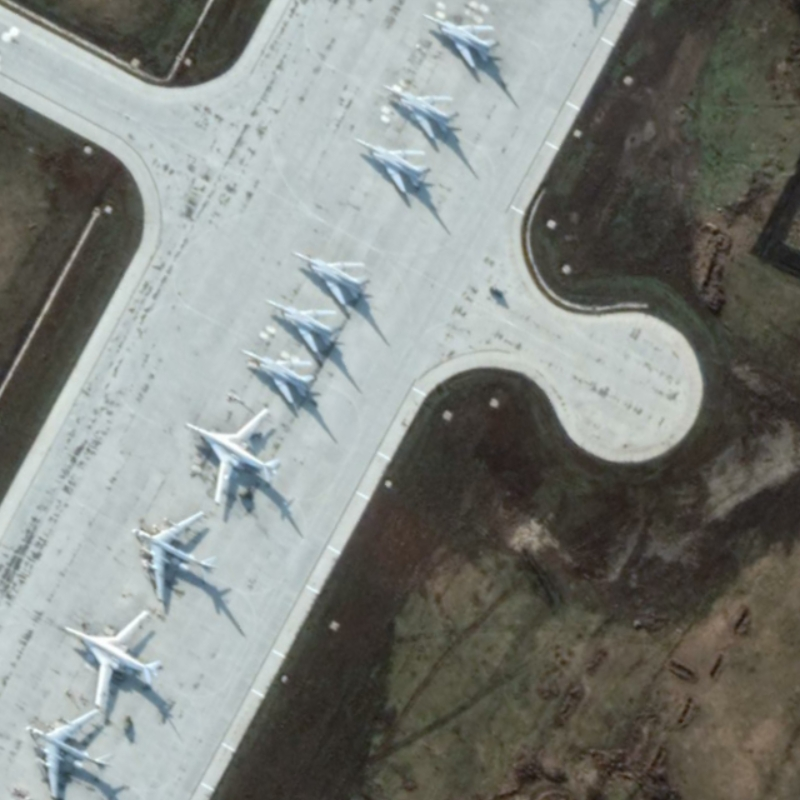A12: (349, 132, 437, 199), (419, 5, 504, 73), (260, 294, 346, 360), (379, 79, 464, 145), (240, 345, 327, 408), (289, 246, 377, 307)
A17: (126, 507, 223, 602), (21, 706, 106, 796)
A6: (179, 404, 283, 506), (60, 603, 162, 706)
